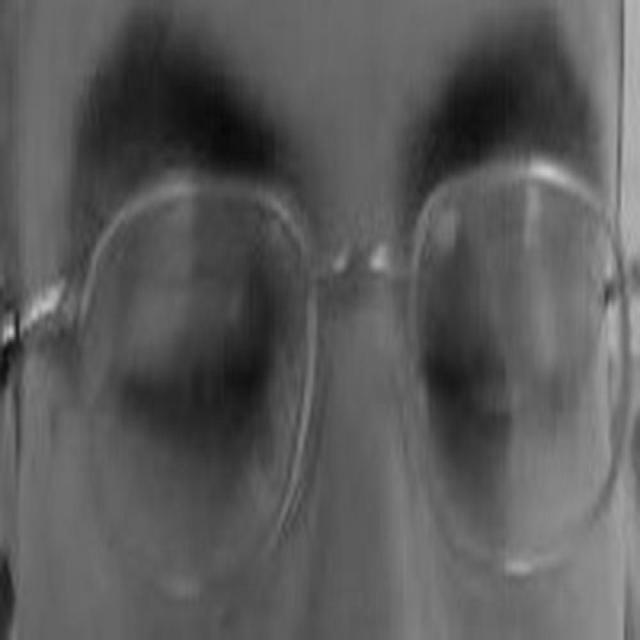real: (80, 178, 604, 525)
